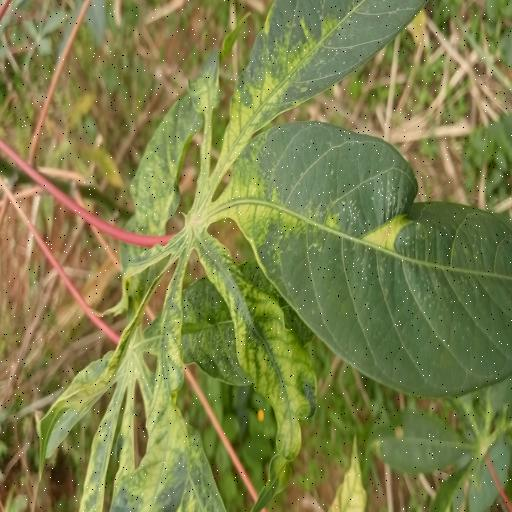Cassava_Mosaic: (45, 0, 512, 512)
